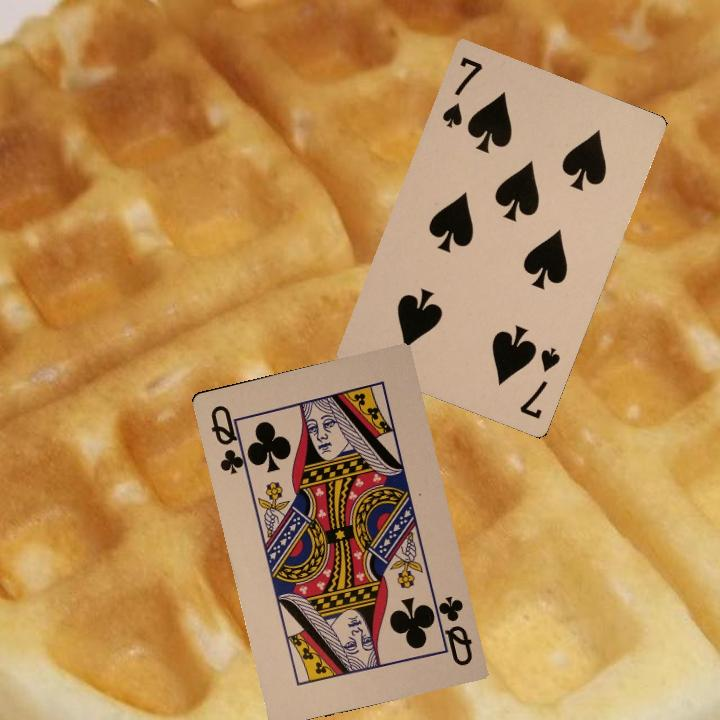7s: (515, 343, 563, 422), (438, 52, 486, 131)
Qc: (428, 591, 475, 669), (207, 401, 251, 477)
